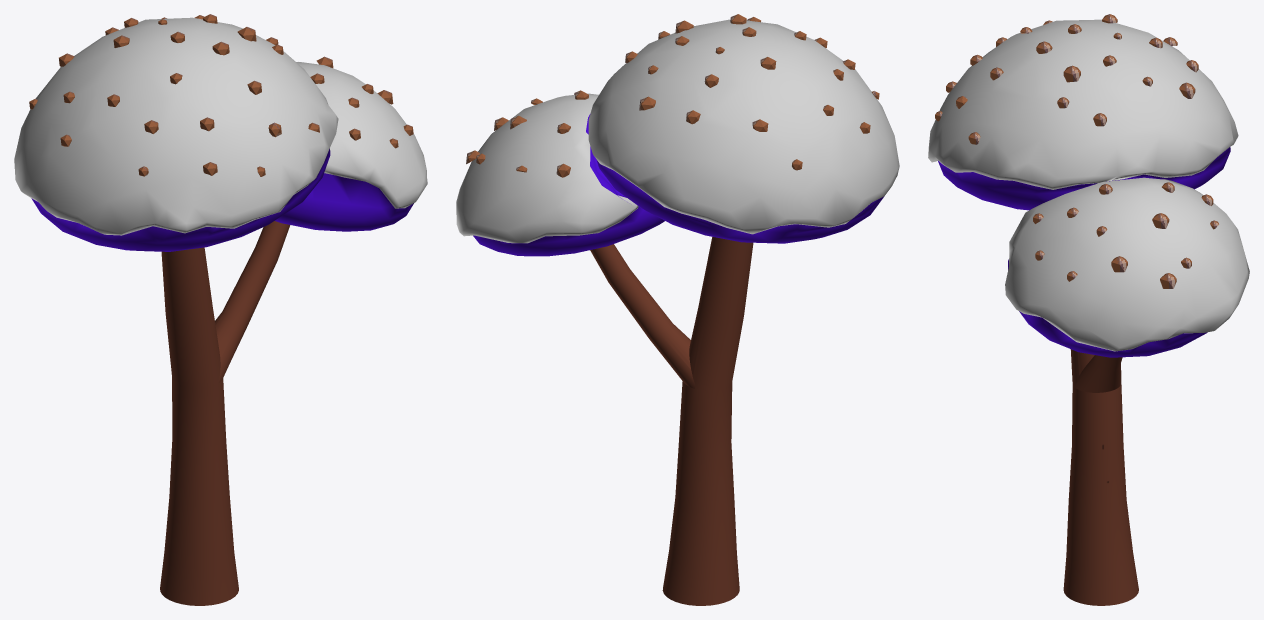
Rendered from simple_tree.obj.
3 renders of one model, left to right at view 1: azimuth 30°, elevation 25°; view 2: azimuth 150°, elevation 25°; view 3: azimuth 270°, elevation 25°, orthographic. The views are drawn at different scales.
Visible parts, largest first — view 1: Icosphere, Cylinder; view 2: Icosphere, Cylinder; view 3: Icosphere, Cylinder.
Part boxes in pixels (box(x1,y1,x2,y2)): Icosphere: box(14, 17, 427, 251); Cylinder: box(160, 221, 290, 605); Icosphere: box(456, 19, 899, 256); Cylinder: box(590, 237, 753, 605); Icosphere: box(928, 19, 1249, 357); Cylinder: box(1063, 349, 1138, 605).
Size of the model in its own units: 11.48 by 16.06 by 8.52.
